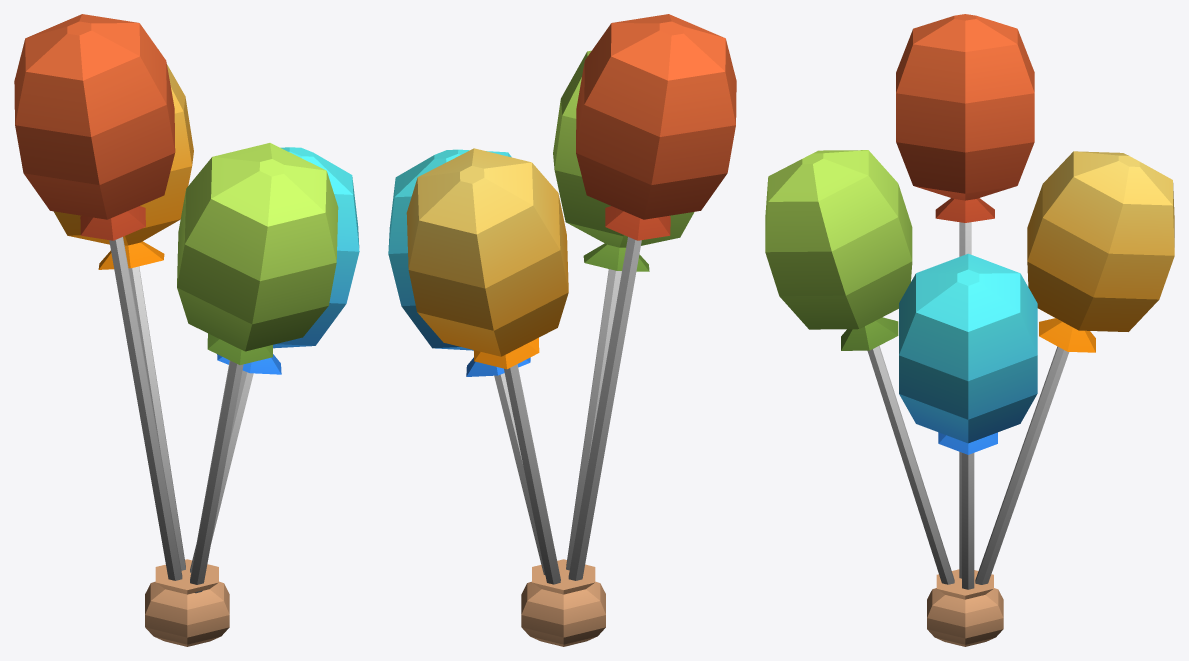
Rendered from balloons.fbx.
The picture shows the model from 3 angles, left to right: view 1: azimuth 30°, elevation 25°; view 2: azimuth 150°, elevation 25°; view 3: azimuth 270°, elevation 25°; orthographic projection. The views are drawn at different scales.
Visible parts, largest first — view 1: balloons; view 2: balloons; view 3: balloons.
Part boxes in pixels (x1,y1,x2,y2): balloons: [14, 14, 359, 646]; balloons: [388, 14, 736, 646]; balloons: [765, 14, 1174, 646].
Size of the model in its own units: 174 by 307 by 198.
1 material, 1 textured.
